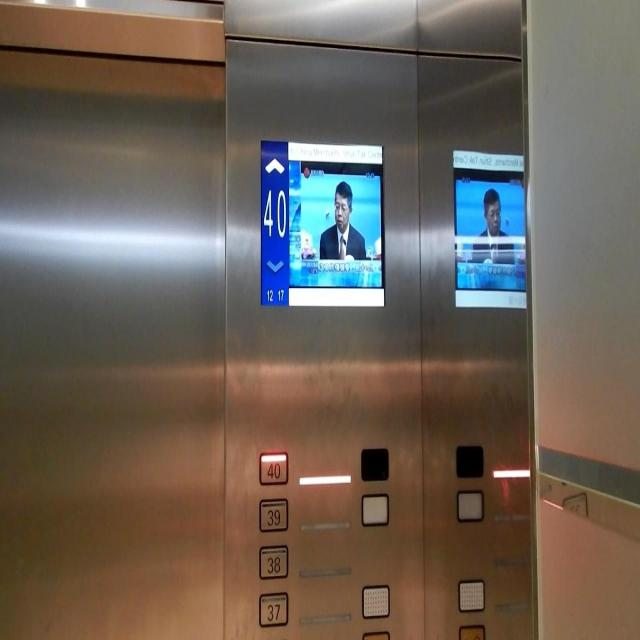37: (258, 591, 288, 628)
38: (258, 544, 288, 579)
39: (258, 498, 288, 532)
40: (258, 451, 288, 485)
empty: (360, 445, 390, 481), (455, 443, 484, 478), (456, 487, 484, 522), (361, 493, 389, 527)
led: (256, 132, 388, 316)
speaker: (361, 582, 390, 619), (457, 577, 485, 611)
